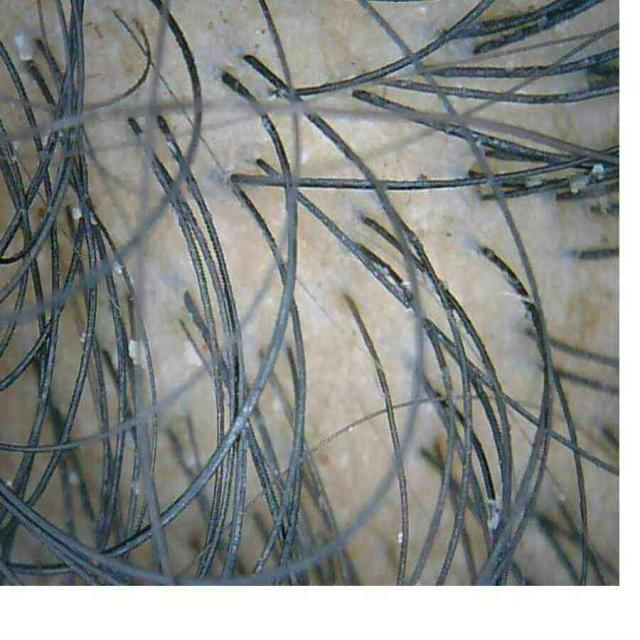d: (14, 29, 34, 63), (485, 498, 500, 535), (129, 339, 138, 365), (591, 164, 605, 180), (70, 204, 82, 222)
